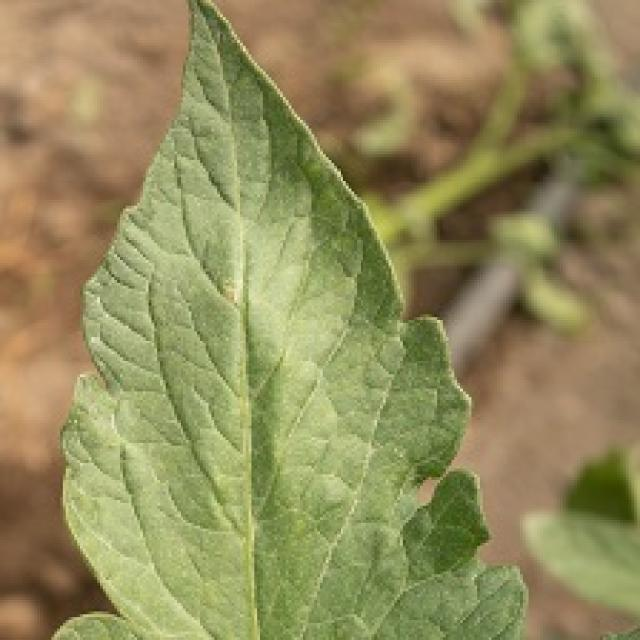Healthy: (54, 0, 520, 637)
